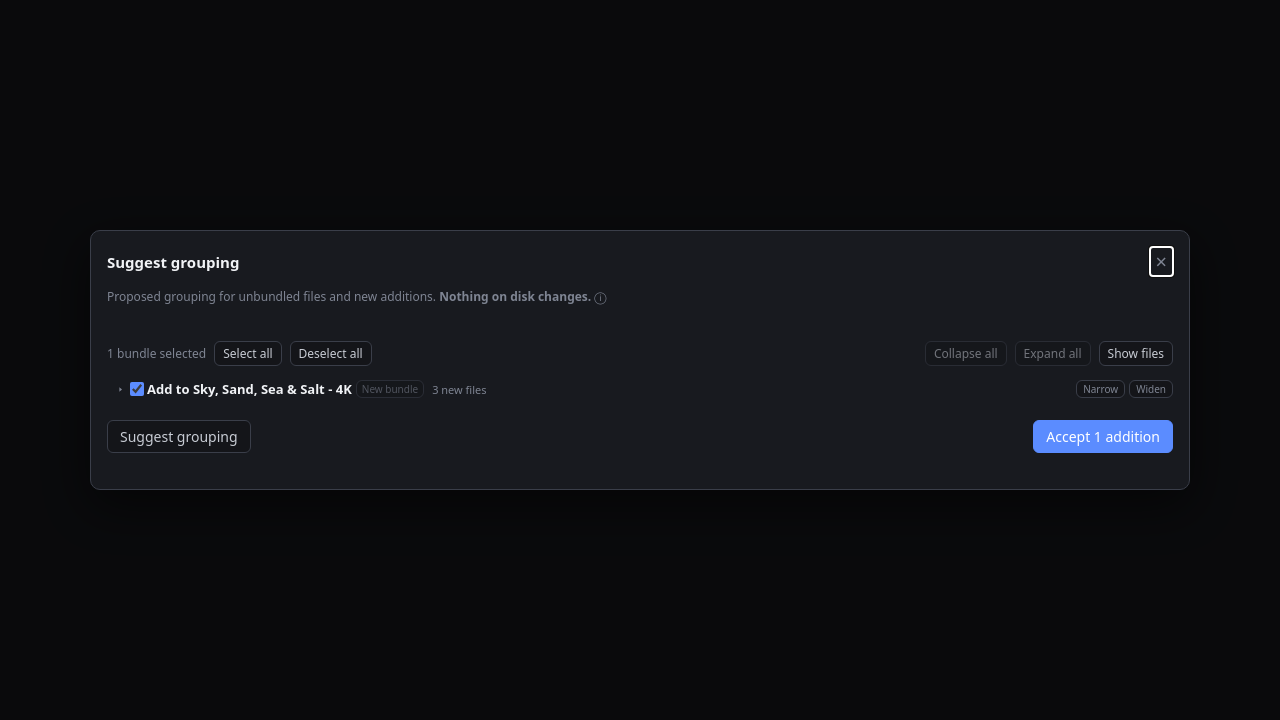
Test: switches one addition proposal to a renameable new bundle and back
Expected: the checkbox named "Accept Surf On The Ridge - 4K" is checked, left=130, top=382, right=144, bottom=396
Expected: the text "Add to Sky, Sand, Sea & Salt - 4K" is shown, left=147, top=380, right=352, bottom=398
The menu item names the change it makes, so its label *is* the state.
Click the button with aria-label "Create a new bundle from these files": (390, 389) left=356, top=380, right=424, bottom=398
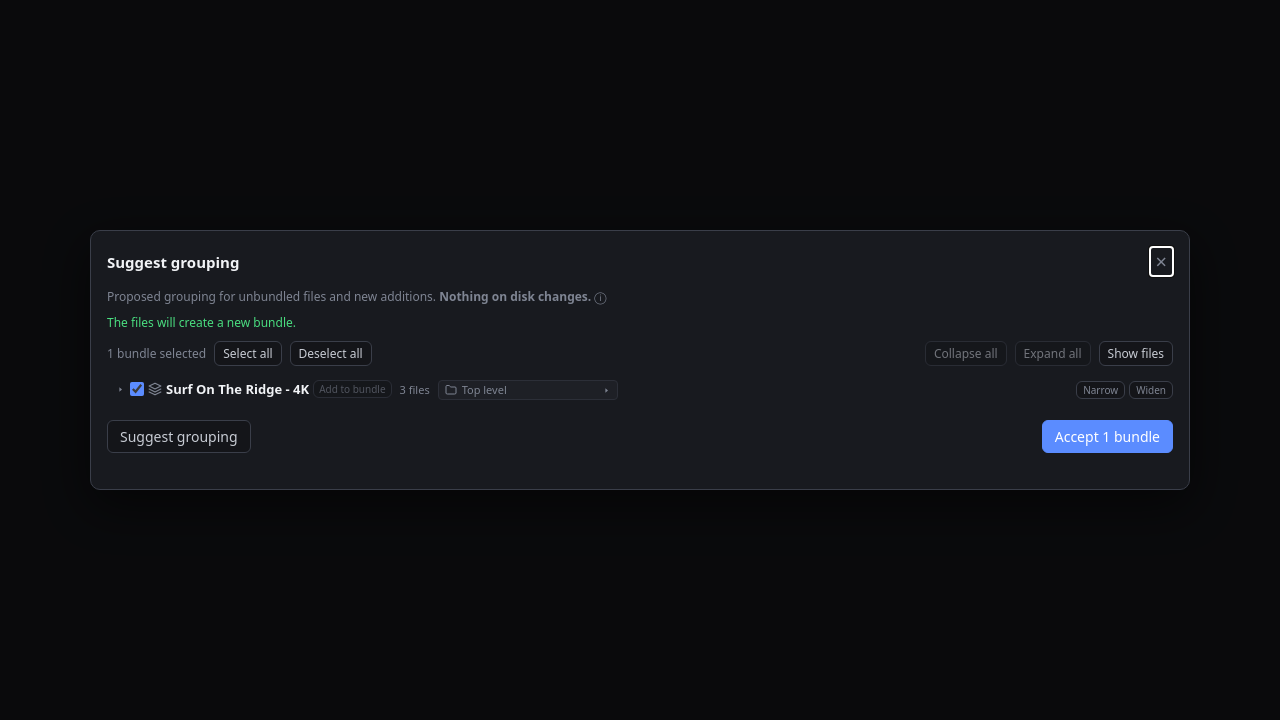
Expected: the checkbox named "Accept Surf On The Ridge - 4K" is checked, left=130, top=382, right=144, bottom=396
Expected: the button with aria-label "Add these files to “Sky, Sand, Sea & Salt - 4K” instead" reads "Add to bundle", left=313, top=380, right=392, bottom=398
Expected: the text "3 files" is shown, left=400, top=382, right=430, bottom=397
Double-click the button with aria-label "Rename bundle suggestion Surf On The Ridge - 4K": (238, 389) left=166, top=380, right=309, bottom=398
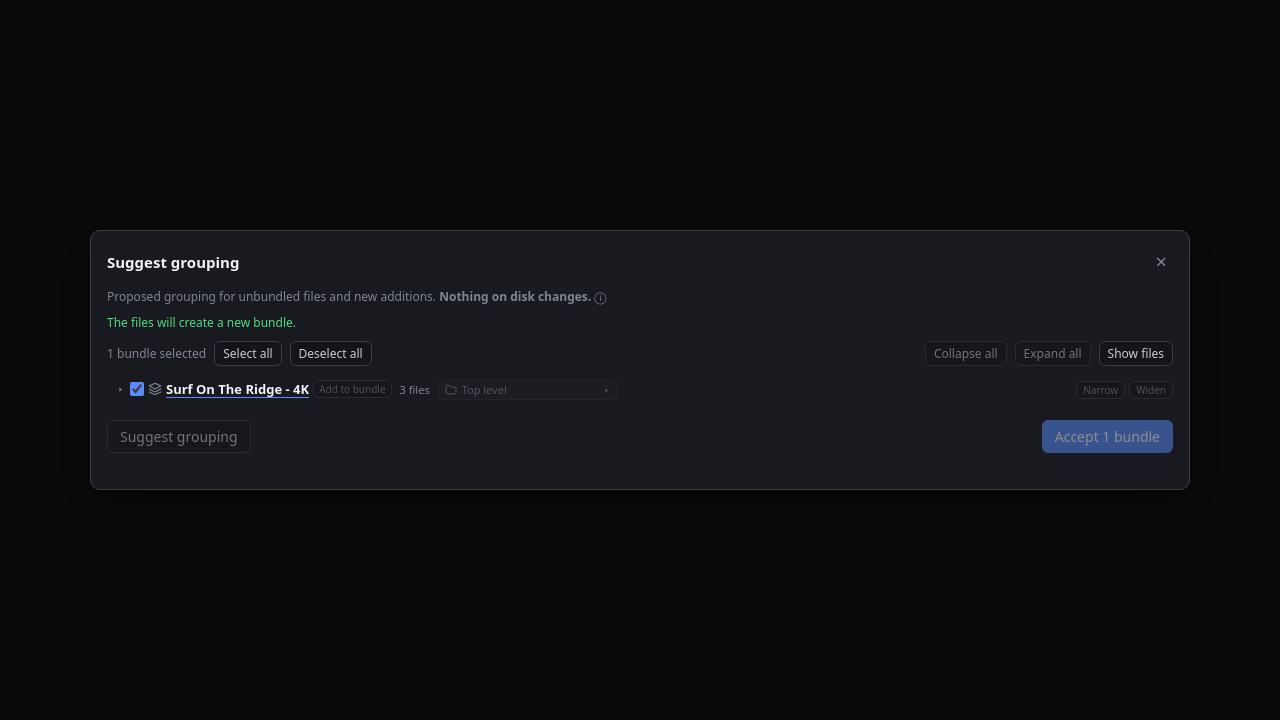
Expected: the button with aria-label "Add these files to “Sky, Sand, Sea & Salt - 4K” instead" is disabled, left=313, top=380, right=392, bottom=398
Expected: the button with aria-label "Add these files to “Sky, Sand, Sea & Salt - 4K” instead" is shown, left=313, top=380, right=392, bottom=398
Replace the text in the text box named "Bundle suggestion title" with "Separate Feature": (238, 389) left=166, top=380, right=309, bottom=398
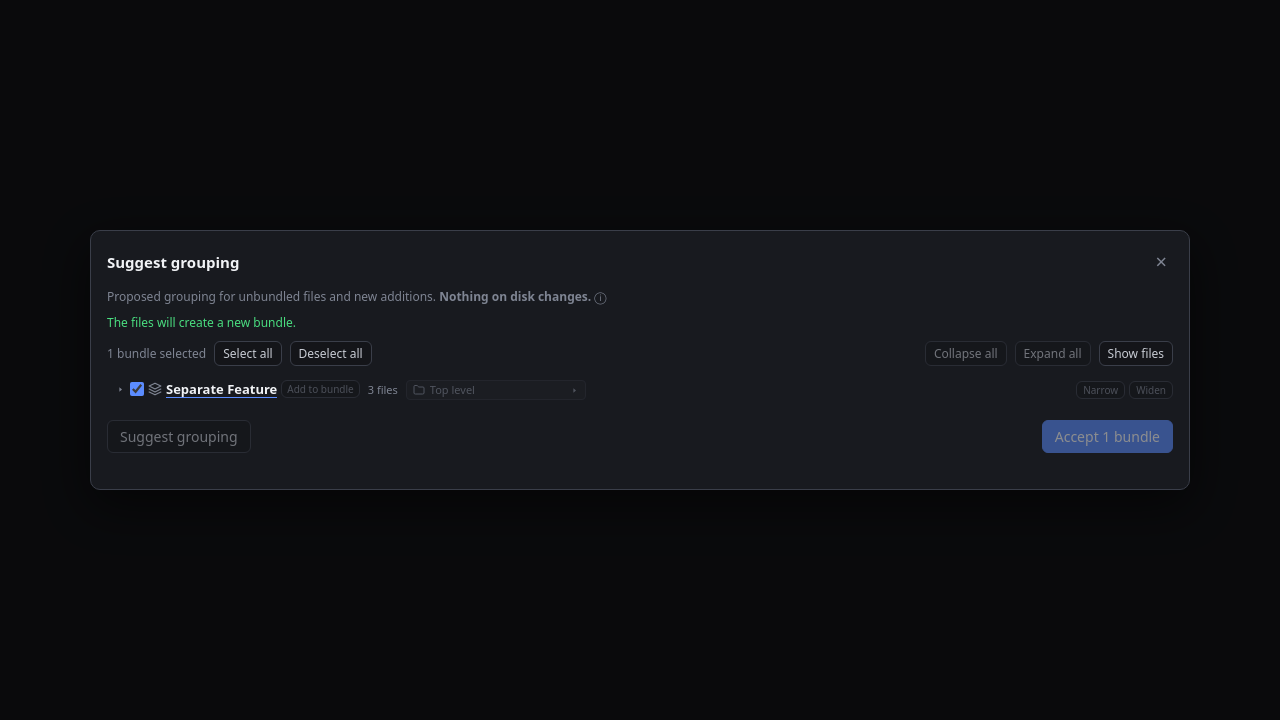
Press Enter in the text box named "Bundle suggestion title", box left=166, top=380, right=277, bottom=398
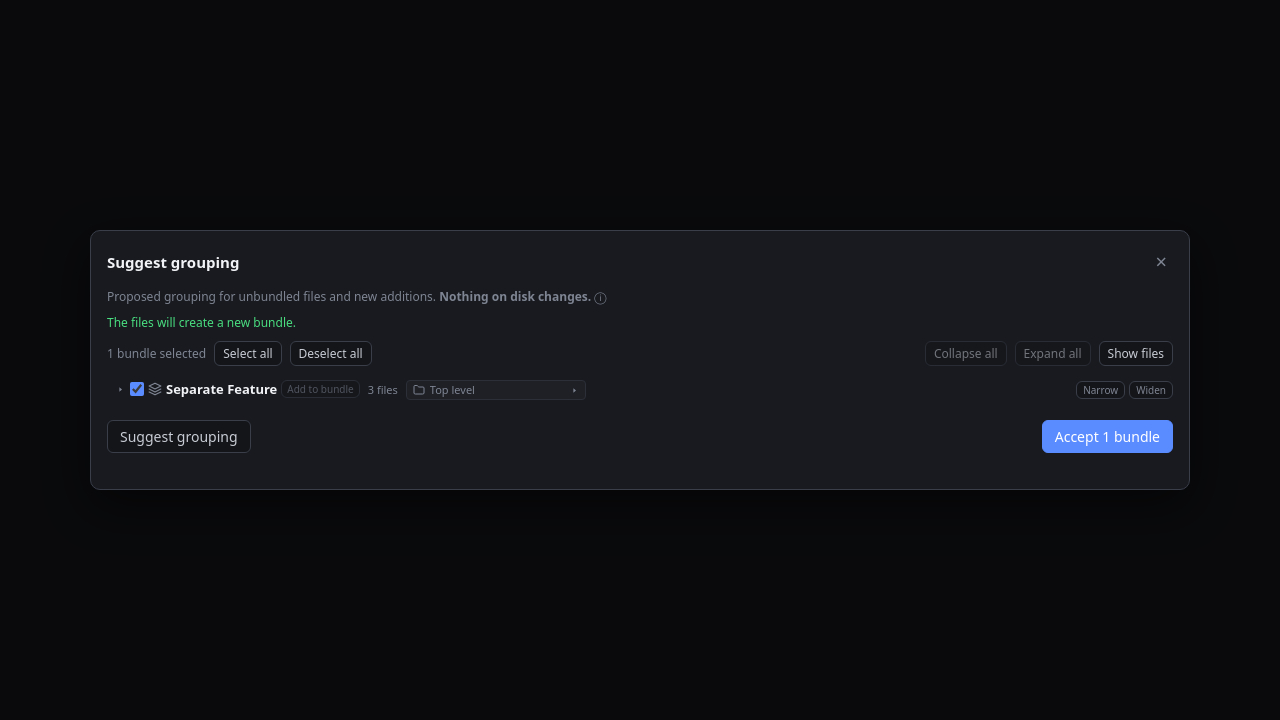
Expected: the button with aria-label "Rename bundle suggestion Separate Feature" is shown, left=166, top=380, right=277, bottom=398
Click the button with aria-label "Add these files to “Sky, Sand, Sea & Salt - 4K” instead": (320, 389) left=281, top=380, right=360, bottom=398
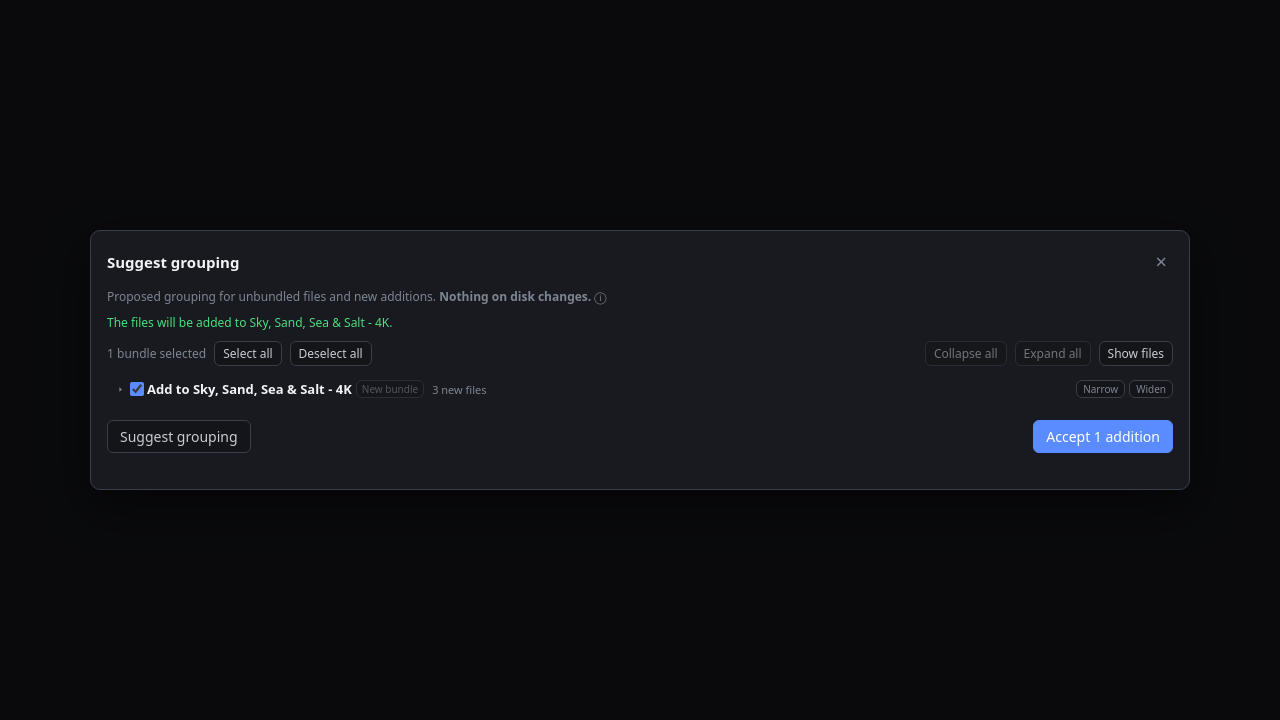
Expected: the text "Add to Sky, Sand, Sea & Salt - 4K" is shown, left=147, top=380, right=352, bottom=398
Click the button with aria-label "Create a new bundle from these files": (390, 389) left=356, top=380, right=424, bottom=398
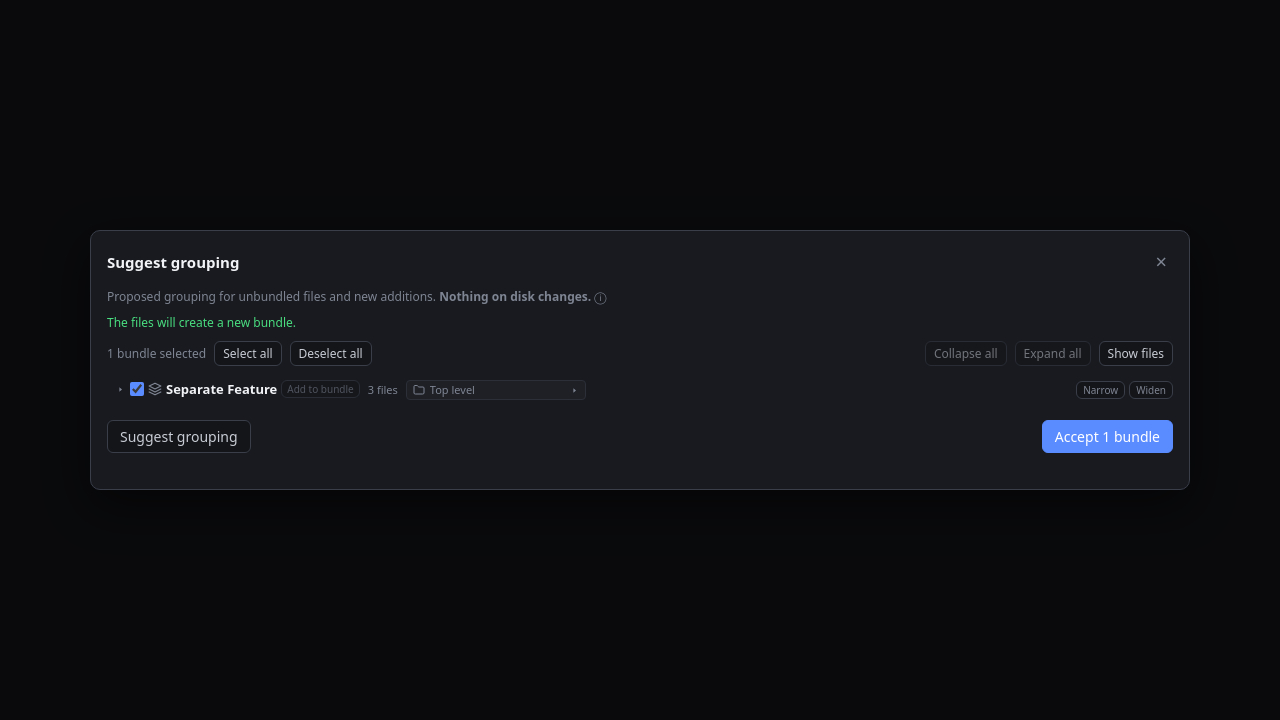
Expected: the button with aria-label "Rename bundle suggestion Separate Feature" is shown, left=166, top=380, right=277, bottom=398
